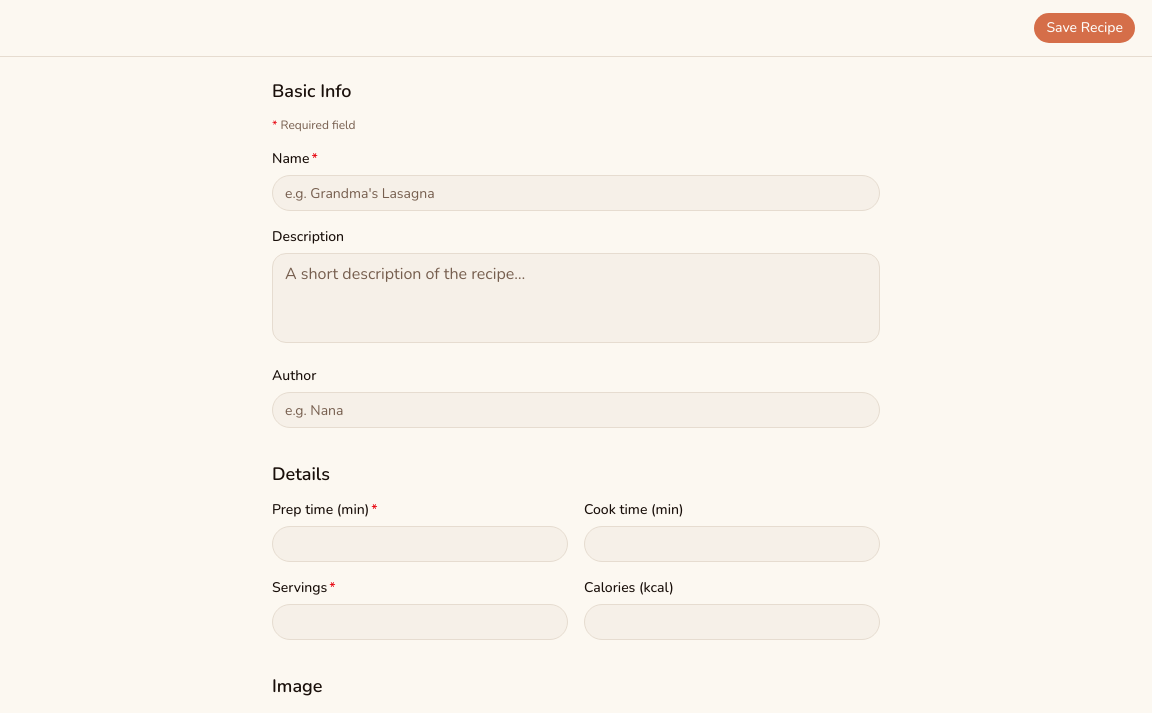
RecipeForm › validation › shows error when servings is empty
Click the button "Save Recipe" at (1085, 28), box x1=1033 y1=12 x2=1136 y2=44
(page scrolled)
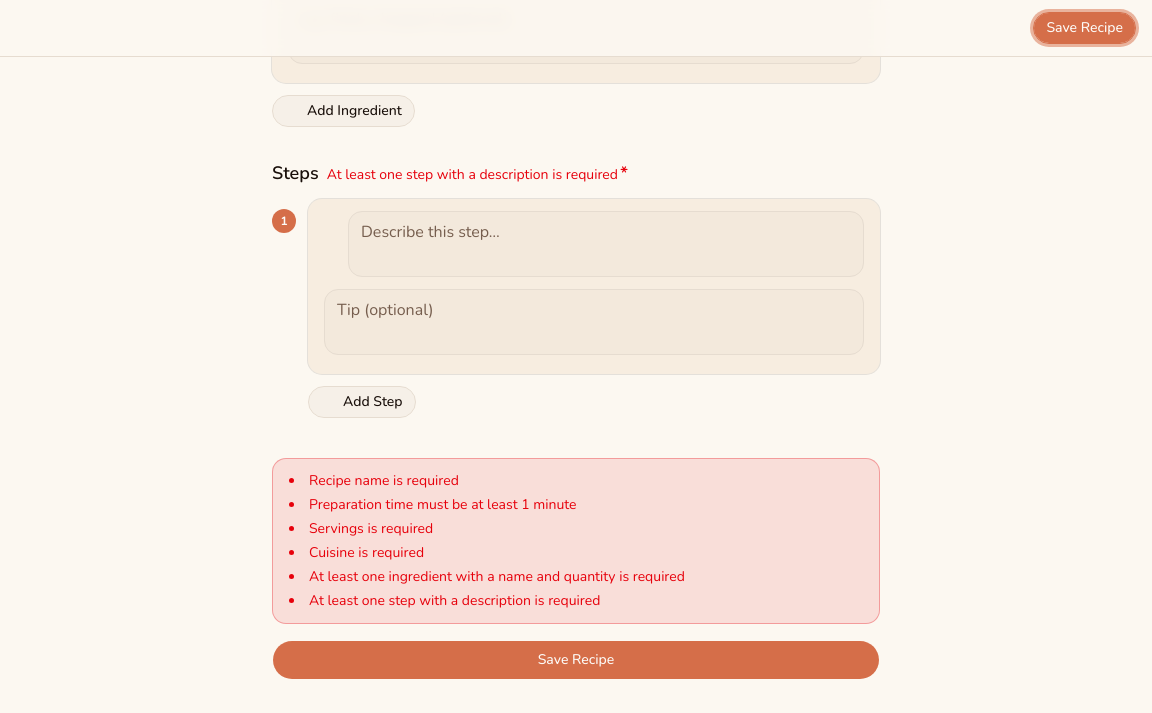
Expected: the list item "Servings is required" is shown, x1=309 y1=519 x2=433 y2=538
